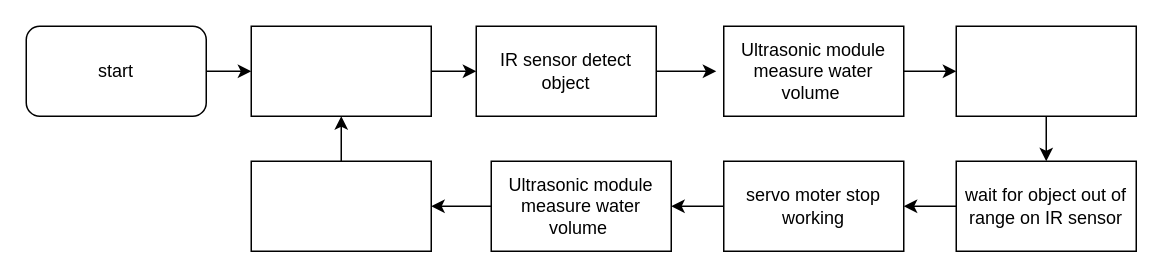
This 1163x278 diagram has some shape labels left out. Here are the shapes that lost their labels. From the top down, the centre of each, then its label:
(340,70): wait to detect object
(1045,70): servo moter start working
(340,205): calculate volume that changed and publish to mqtt breaker
